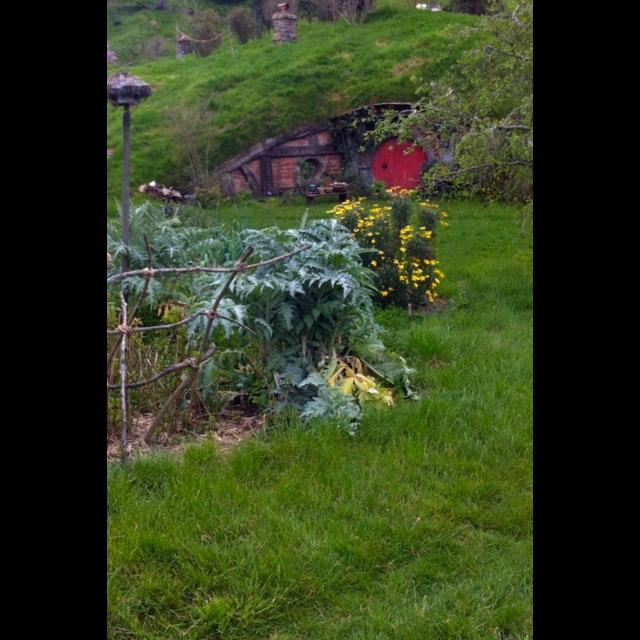Flower: (324, 182, 454, 304)
